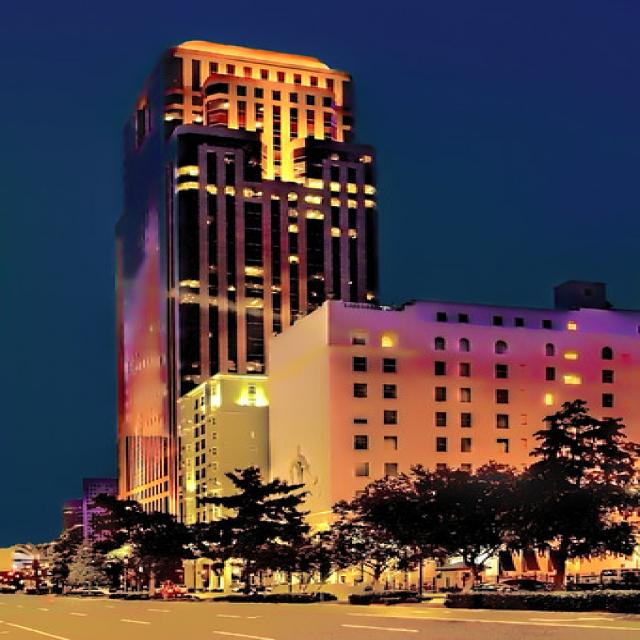Normal_building: (106, 35, 390, 586)
